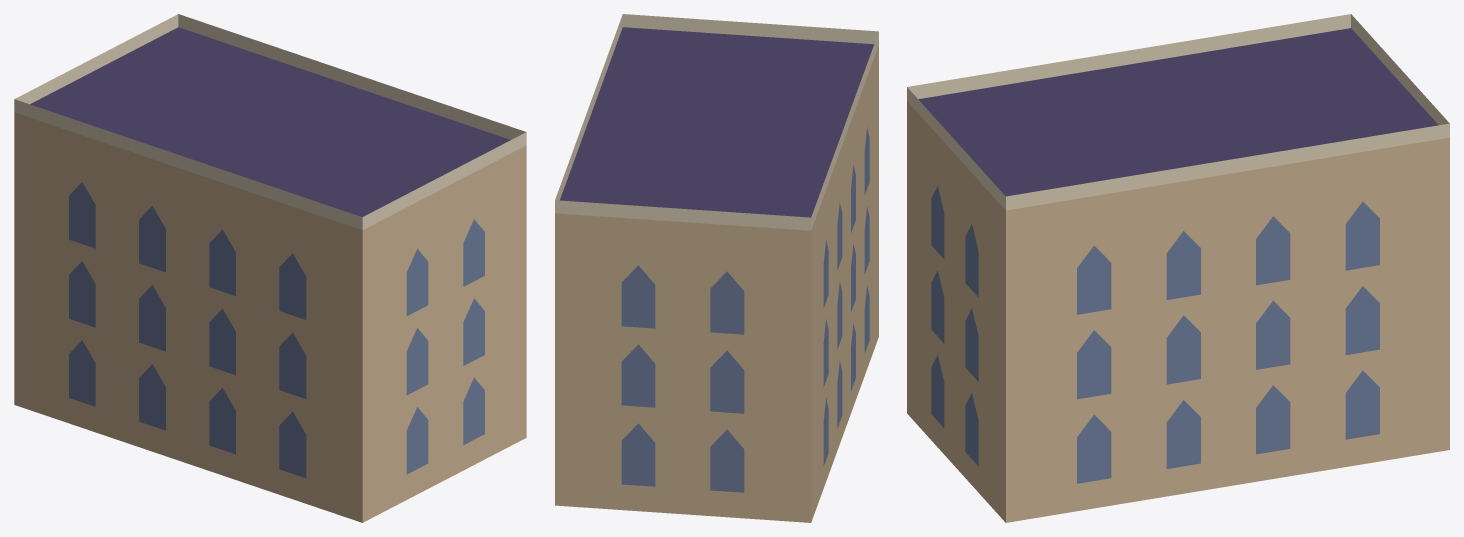
File: b-067-day.glb
3 renders of one model, left to right at view 1: azimuth 30°, elevation 25°; view 2: azimuth 150°, elevation 25°; view 3: azimuth 270°, elevation 25°, orthographic. The views are drawn at different scales.
Parts seen in each view (by area): view 1: campus/b-067-day-0; view 2: campus/b-067-day-0; view 3: campus/b-067-day-0.
Part boxes in pixels (left/top/right/bottom): campus/b-067-day-0: left=14, top=14, right=526, bottom=522; campus/b-067-day-0: left=555, top=14, right=878, bottom=522; campus/b-067-day-0: left=907, top=14, right=1449, bottom=522.
Bounding box in the file's own units: 15.29 × 12.75 × 19.21.
